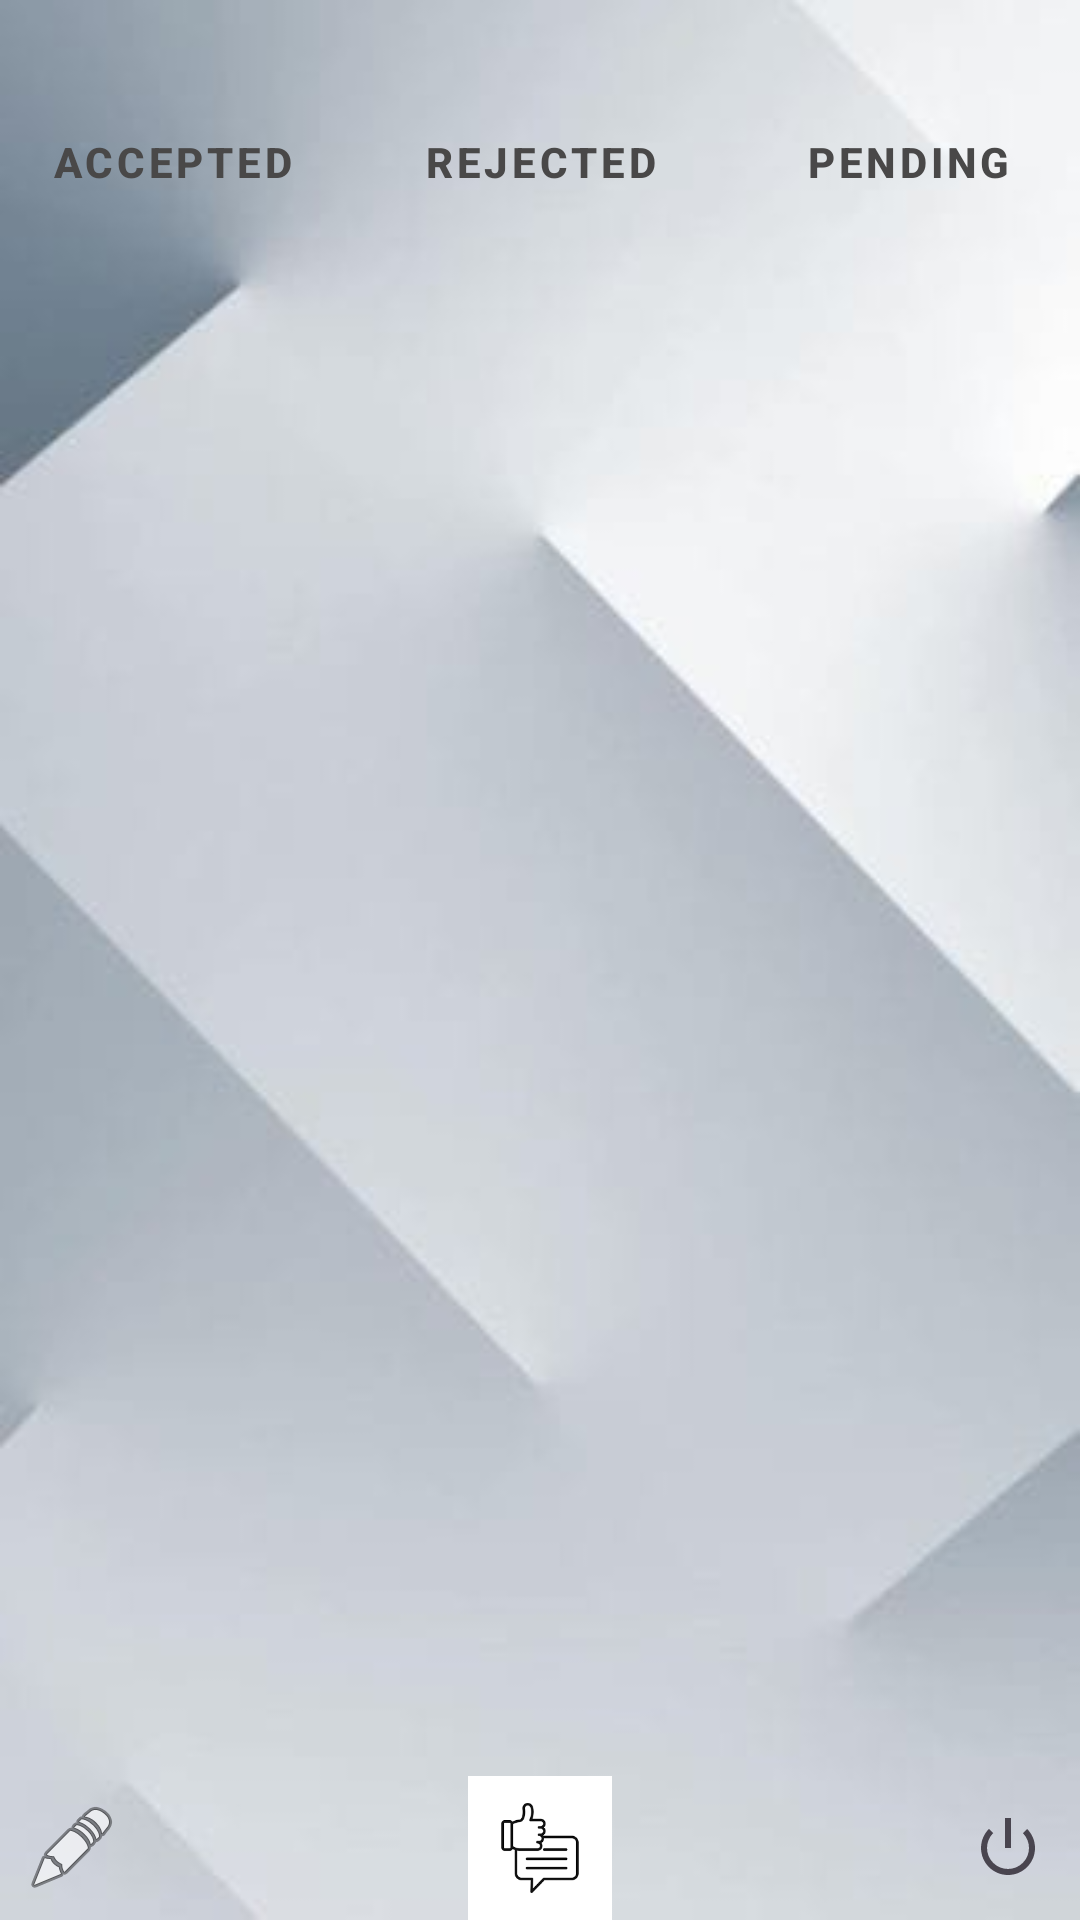

Icon click points for this 1080w x 1920h phone screenshot, format point (x, y):
Edit: point (71, 1847)
View FeedBack: point (540, 1848)
